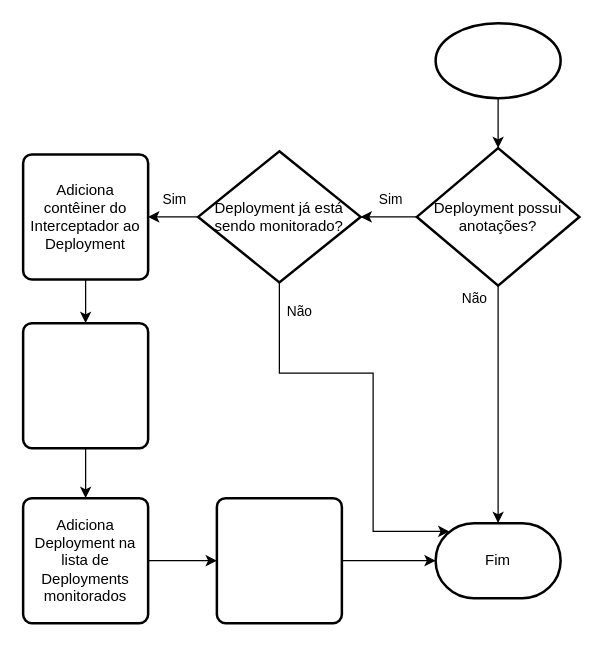
This 601x645 diagram has some shape labels left out. Here are the shapes that lost their labels. From the top down, the centre of each, then its label:
At point (497, 60): "Início".
At point (85, 385): "Cria Service para acesso ao Interceptador".
At point (278, 560): "Atualiza estado do Deployment no kube-apiserver".
